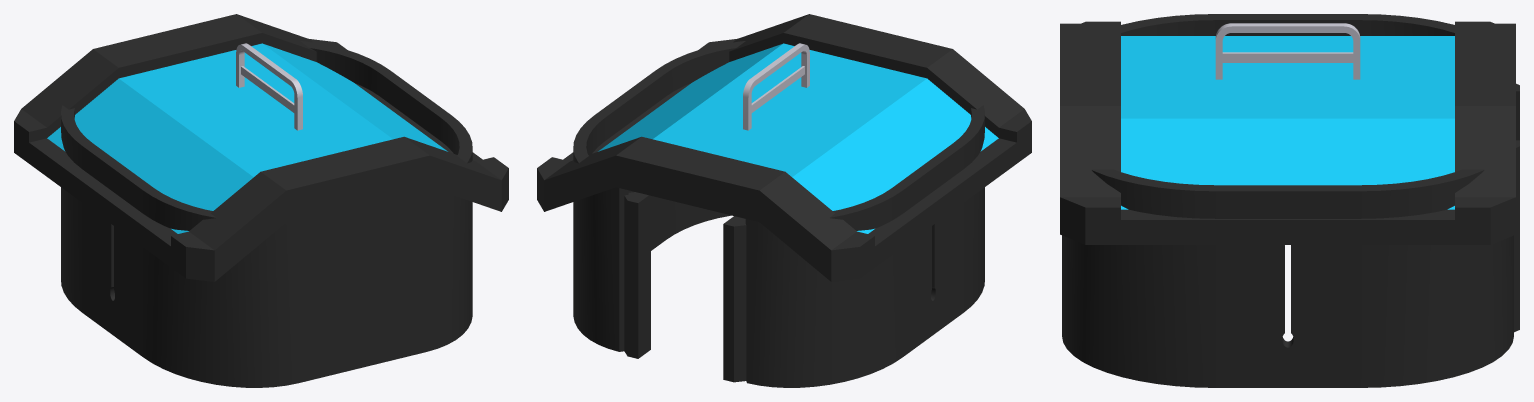
File: CatHouseOpen.fbx
The picture shows the model from 3 angles, left to right: view 1: azimuth 30°, elevation 25°; view 2: azimuth 150°, elevation 25°; view 3: azimuth 270°, elevation 25°; orthographic projection. The views are drawn at different scales.
Visible parts, largest first — view 1: roof_window_87, wall_straight_86, wall_cornerRound%_84, wall_slit_81, wall_cornerRound%_85, wall_cornerRound%_77, wall_slit_78, wall_cornerRound%_76, fence_simple%_88; view 2: roof_window_87, wall_cornerRound%_77, wall_slit_81, wall_cornerRound%_76, wall_border_74, wall_cornerRound%_84, wall_cornerRound%_85, wall_slit_78, fence_simple%_88; view 3: roof_window_87, wall_slit_78, wall_cornerRound%_76, wall_cornerRound%_85, fence_simple%_88, wall_slit_81, wall_cornerRound%_77, wall_cornerRound%_84, wall_border_74.
Boxes of the visible parts, x1,y1,x2,y2 form: roof_window_87: (14,14,508,281); wall_straight_86: (299,188,426,382); wall_cornerRound%_84: (143,187,298,387); wall_slit_81: (82,142,153,356); wall_cornerRound%_85: (426,114,472,351); wall_cornerRound%_77: (61,105,92,312); wall_slit_78: (379,69,451,140); wall_cornerRound%_76: (300,41,389,95); fence_simple%_88: (236,43,302,130); roof_window_87: (537,14,1031,281); wall_cornerRound%_77: (745,187,902,387); wall_slit_81: (892,141,963,356); wall_cornerRound%_76: (573,114,628,351); wall_border_74: (624,192,746,382); wall_cornerRound%_84: (954,105,984,312); wall_cornerRound%_85: (656,41,745,239); wall_slit_78: (594,69,666,250); fence_simple%_88: (743,43,809,130); roof_window_87: (1060,21,1515,244); wall_slit_78: (1207,185,1367,387); wall_cornerRound%_76: (1352,169,1513,387); wall_cornerRound%_85: (1062,169,1221,387); fence_simple%_88: (1215,23,1360,79); wall_slit_81: (1207,14,1367,35); wall_cornerRound%_77: (1352,14,1454,35); wall_cornerRound%_84: (1121,14,1221,35); wall_border_74: (1514,83,1519,332).
Size of the model in its own units: 30.38 by 21.05 by 31.77.
